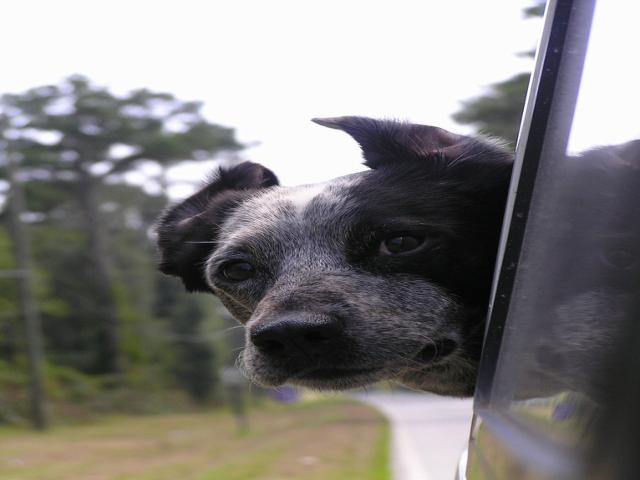Dog: (153, 112, 640, 412)
